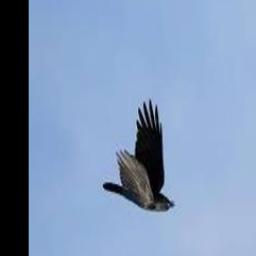Crow: (103, 99, 175, 212)
